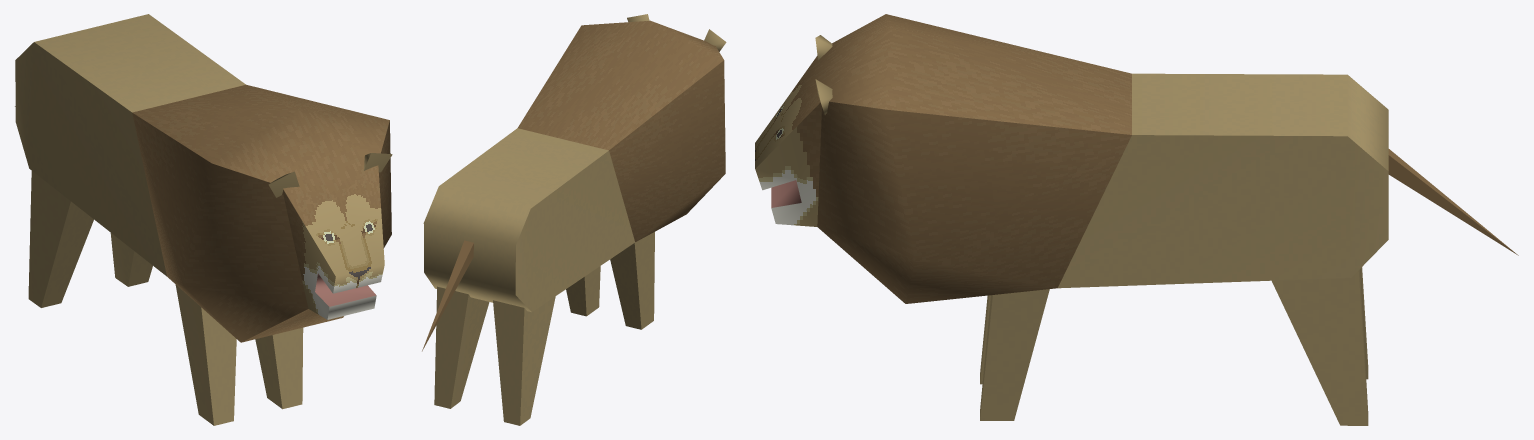
File: 0a9b_Lion.glb
The picture shows the model from 3 angles, left to right: view 1: azimuth 30°, elevation 25°; view 2: azimuth 150°, elevation 25°; view 3: azimuth 270°, elevation 25°; orthographic projection. The views are drawn at different scales.
Visible parts, largest first — view 1: part_0; view 2: part_0; view 3: part_0.
Part boxes in pixels (box(x1,y1,x2,y2)): part_0: box(15, 14, 392, 425); part_0: box(422, 14, 726, 425); part_0: box(755, 14, 1518, 425).
Bounding box in the file's own units: 1.11 × 1.7 × 3.21.
Materials: 1 (1 with a texture image).
